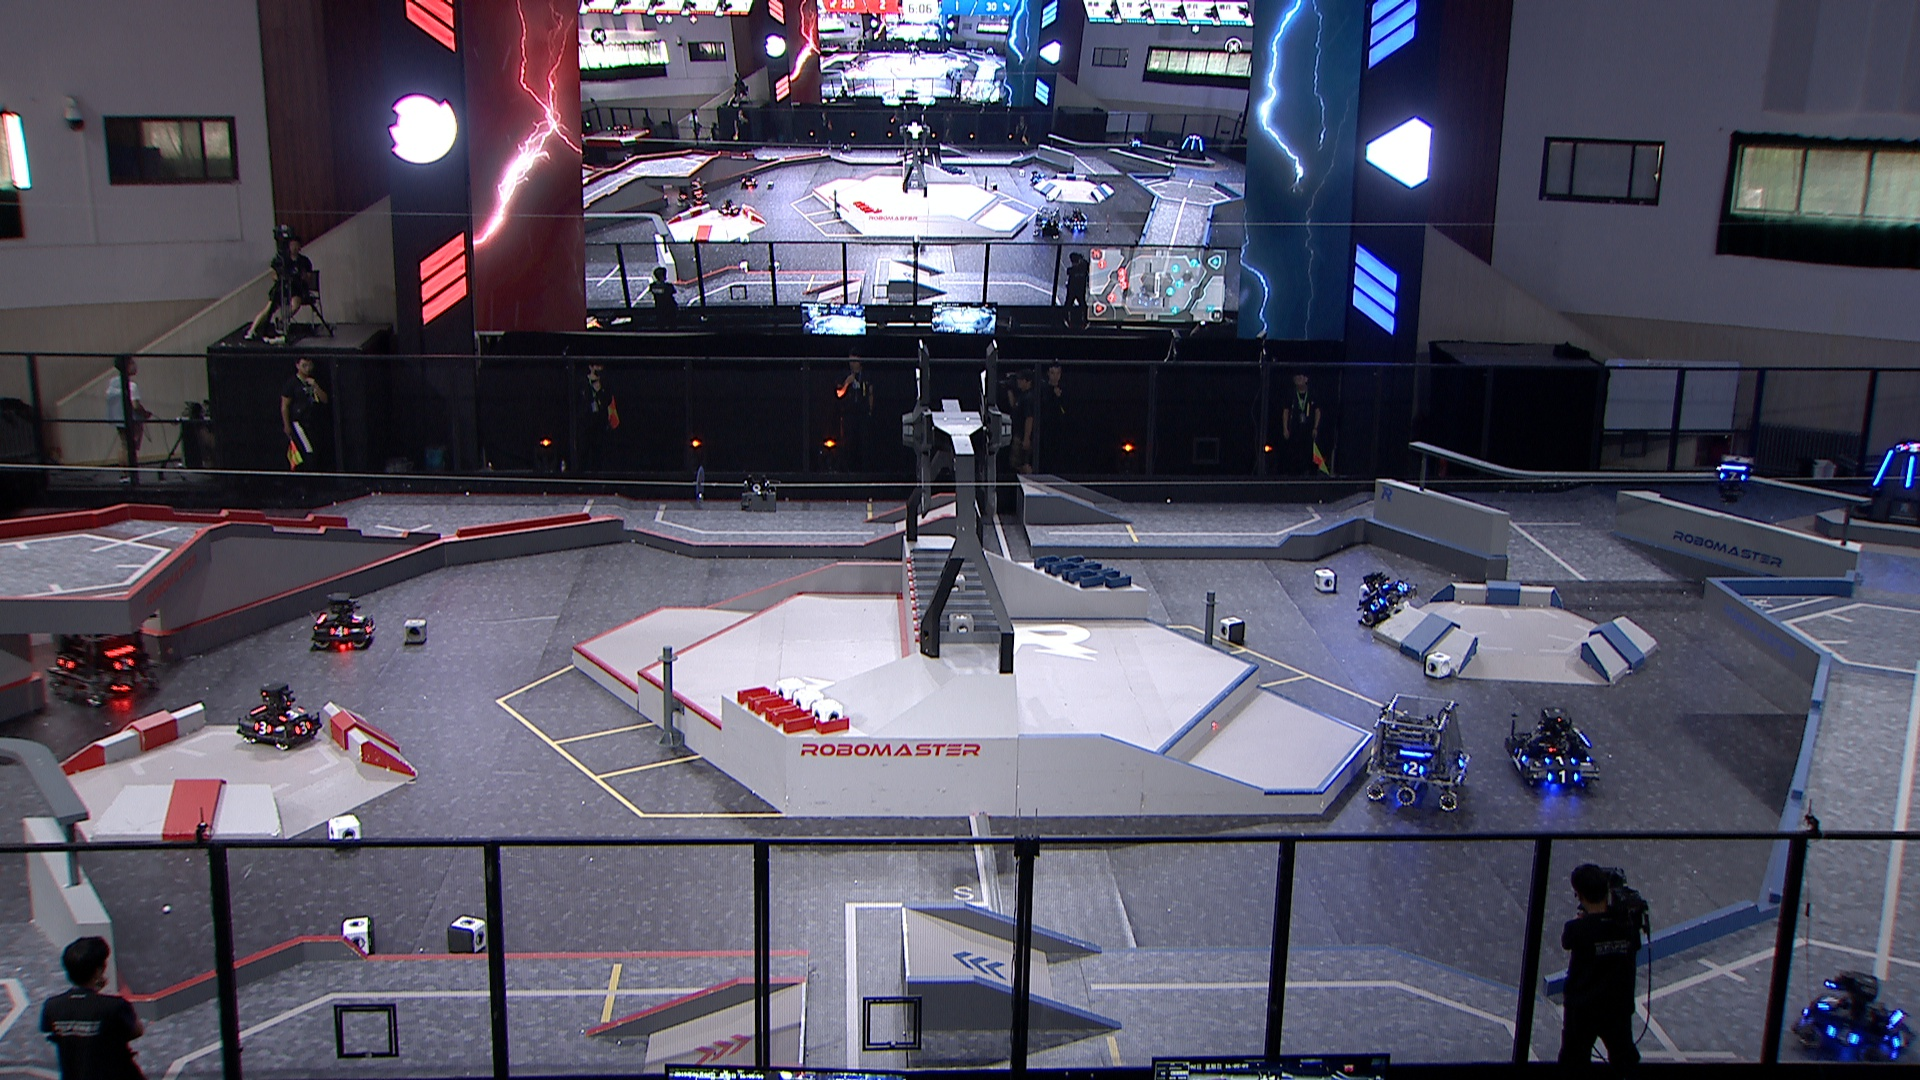armor: (1871, 450, 1896, 487), (1826, 1025, 1859, 1046), (1543, 752, 1577, 767), (276, 705, 306, 723), (1400, 760, 1428, 778), (1903, 456, 1917, 491), (1547, 770, 1581, 785), (1815, 994, 1840, 1014), (251, 719, 276, 736), (1718, 471, 1747, 485), (1894, 1029, 1912, 1050), (112, 655, 135, 673), (328, 622, 351, 640), (1367, 595, 1387, 612), (1513, 746, 1531, 764), (57, 655, 76, 671), (294, 723, 314, 736), (363, 618, 376, 636), (1457, 752, 1468, 769), (349, 615, 367, 624), (1396, 582, 1408, 595)
base: (1847, 440, 1920, 529)
car: (1367, 694, 1472, 815), (45, 595, 156, 704), (1792, 973, 1917, 1067), (1505, 705, 1604, 790), (235, 680, 324, 752), (313, 591, 377, 650), (1360, 571, 1419, 629)
ignore: (1033, 204, 1064, 243), (676, 179, 712, 211), (1174, 133, 1211, 162), (1062, 208, 1091, 235), (719, 199, 742, 216), (741, 171, 760, 190), (1030, 169, 1046, 187), (1902, 442, 1920, 454), (1129, 136, 1141, 153)
watcher: (1712, 454, 1759, 506)
